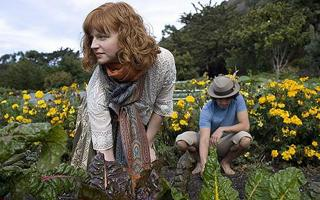person: (69, 3, 177, 199)
